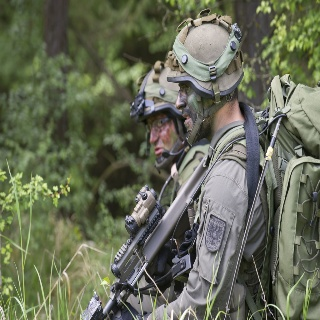rifle: (79, 147, 212, 320)
